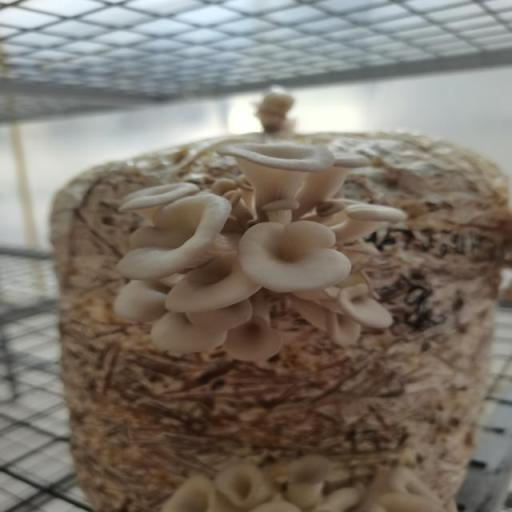White Oyster Mushroom: (110, 133, 404, 369)
